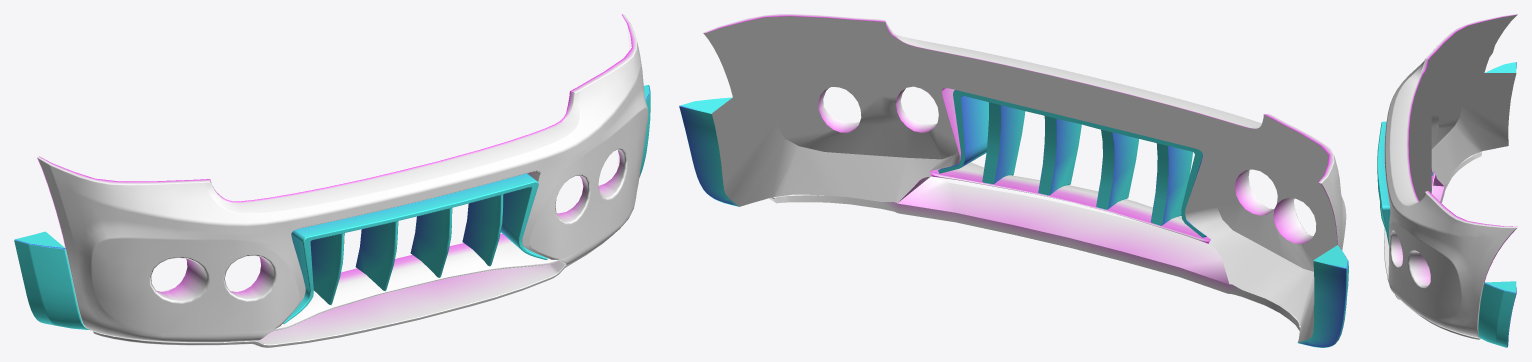
Rendered from Car_Mini_CountrymanJCW_2017_BumperF_SetC_AltB.fbx.
The picture shows the model from 3 angles, left to right: view 1: azimuth 30°, elevation 25°; view 2: azimuth 150°, elevation 25°; view 3: azimuth 270°, elevation 25°; orthographic projection. The views are drawn at different scales.
Visible parts, largest first — view 1: BumperF 6; view 2: BumperF 6; view 3: BumperF 6.
Part boxes in pixels (x1,y1,x2,y2): BumperF 6: [14, 14, 650, 347]; BumperF 6: [679, 14, 1348, 347]; BumperF 6: [1377, 14, 1517, 347].
Size of the model in its own units: 1.89 by 0.495 by 0.4846.
